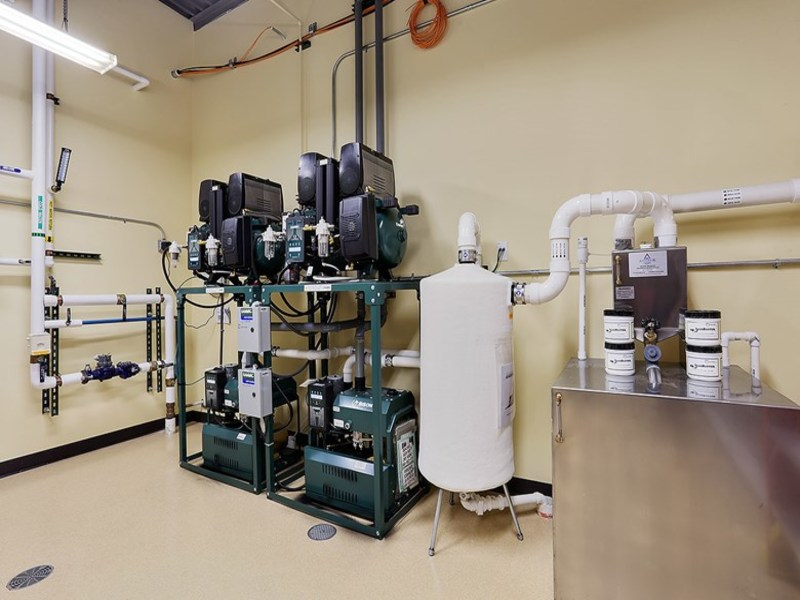valve: (28, 345, 51, 389), (117, 293, 128, 323), (61, 303, 71, 327)
